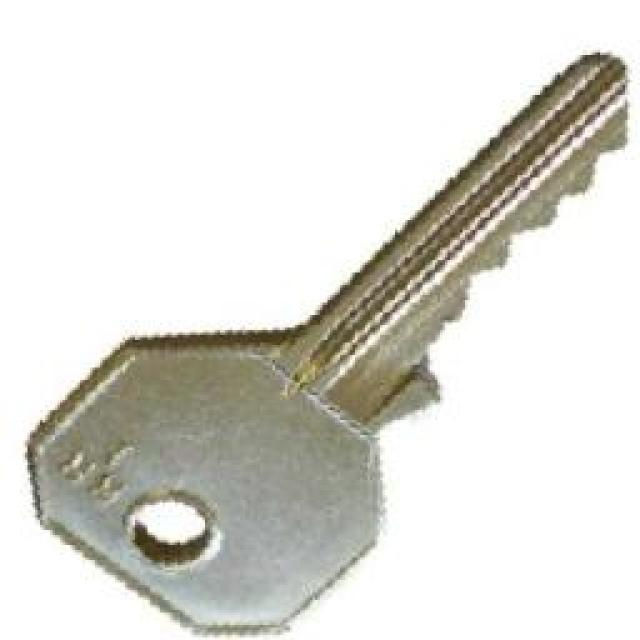anahtar: (21, 25, 634, 637)
